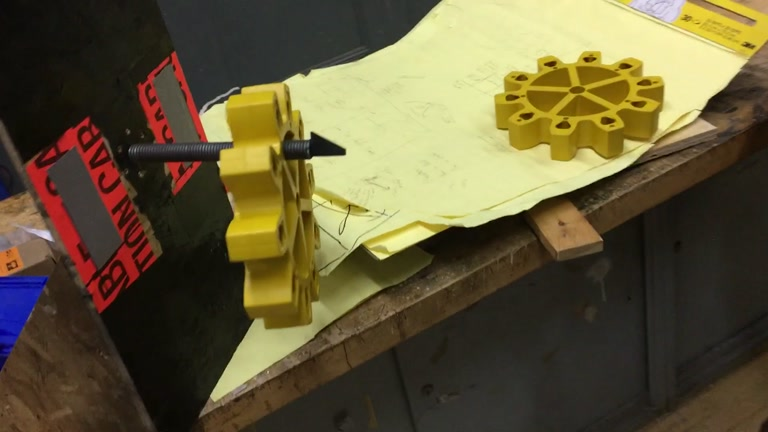gear: (218, 82, 321, 327), (495, 51, 664, 162)
